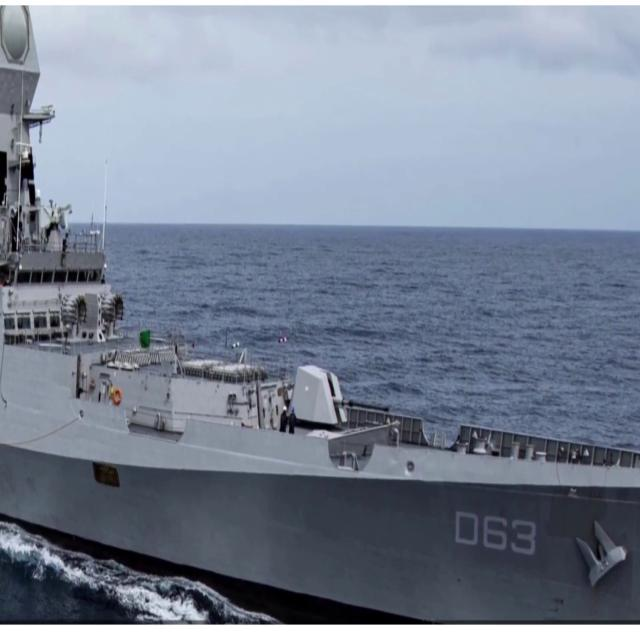OCR: (453, 505, 539, 571)
